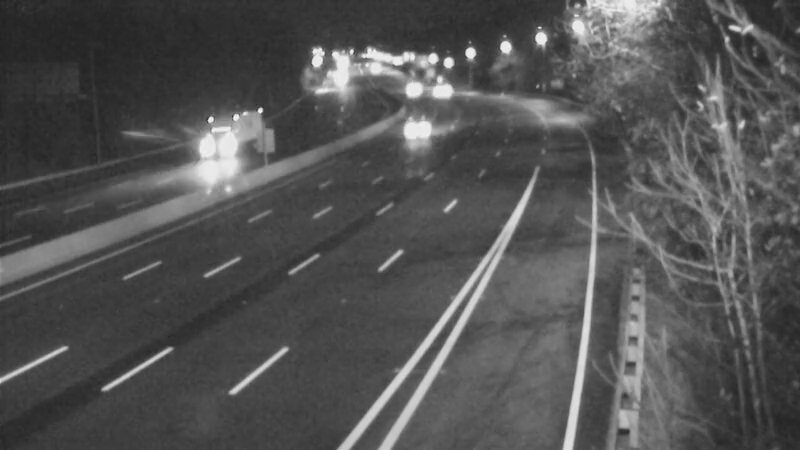vehicle: (386, 64, 436, 114), (417, 65, 467, 115), (392, 106, 442, 156), (197, 120, 247, 170)
